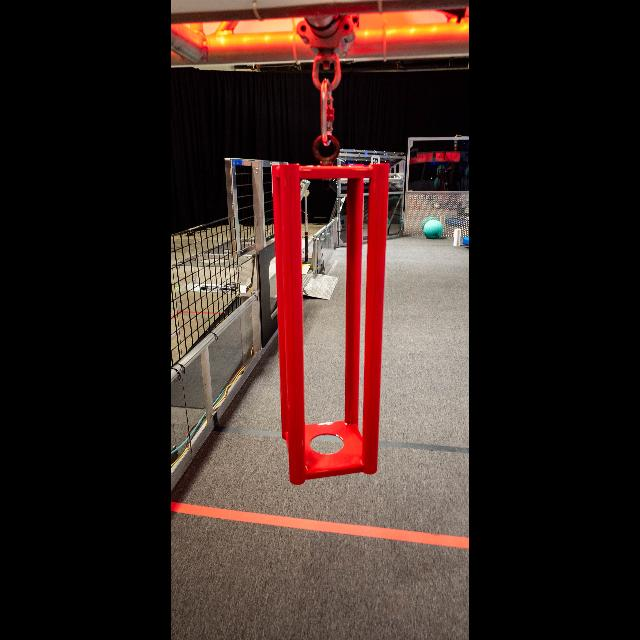ALGAE: (424, 220, 444, 238)
CORAL: (454, 230, 462, 247)
